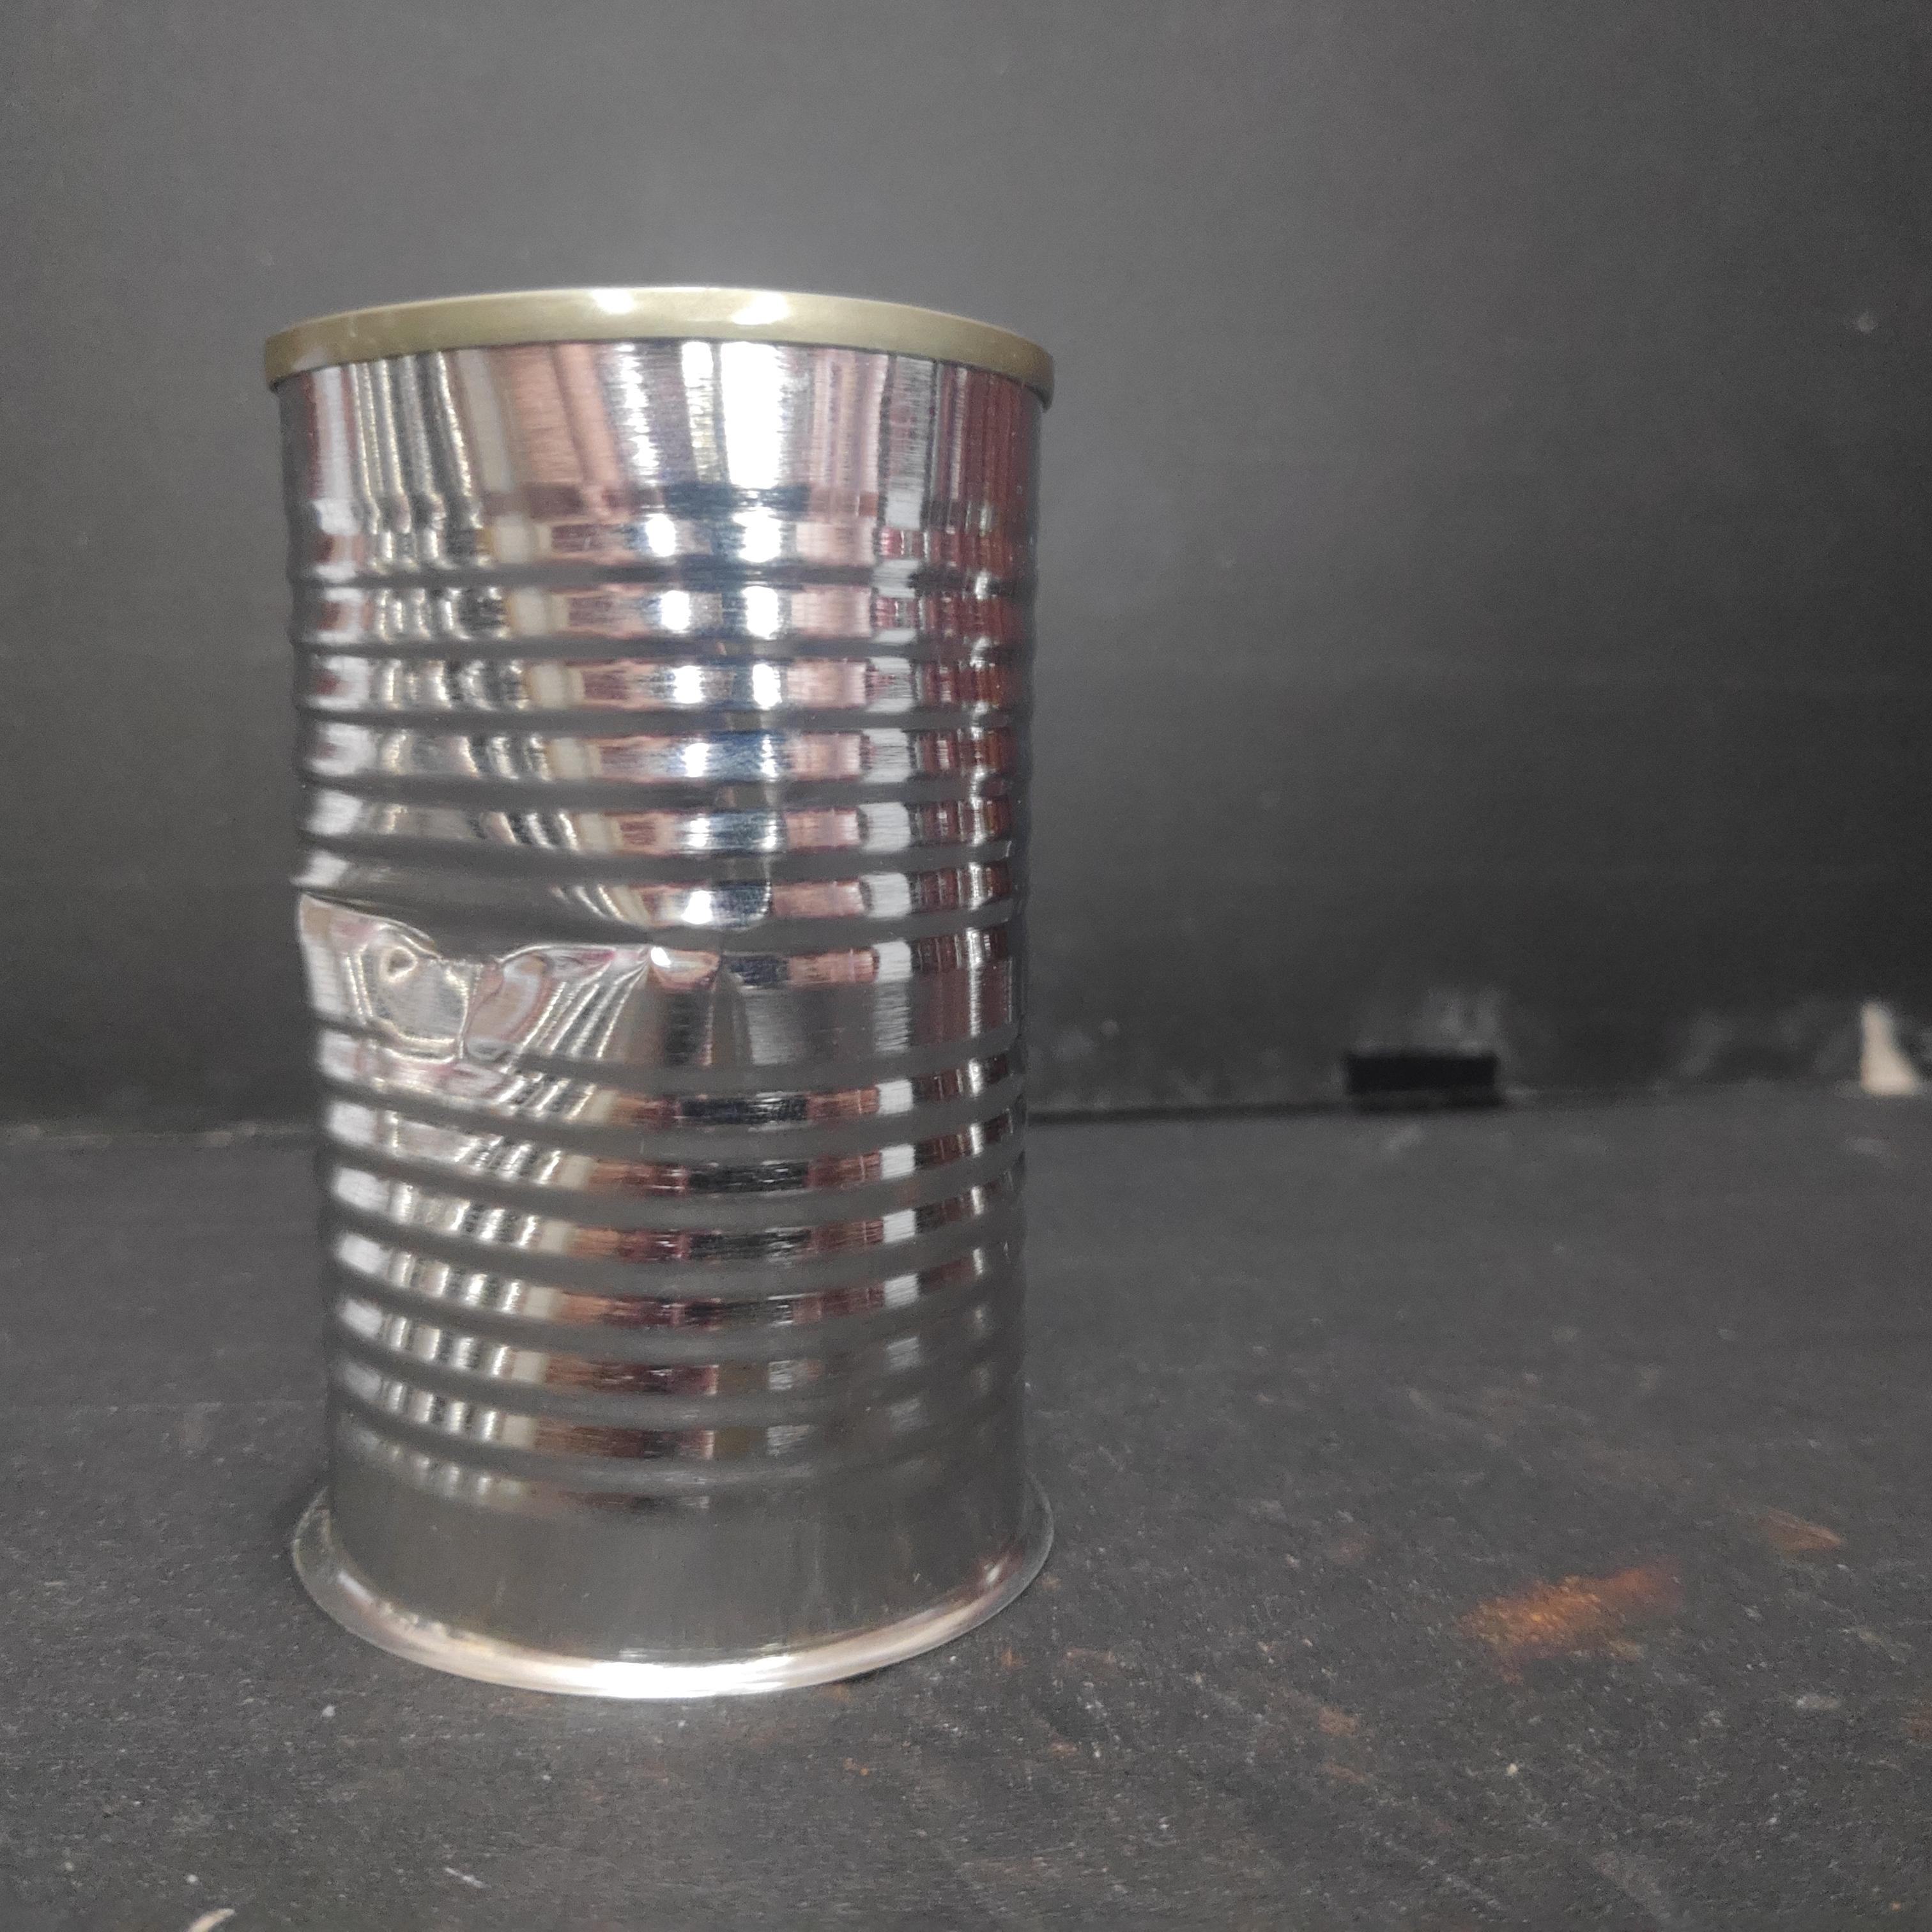Minor Defect: (248, 280, 1090, 1713)
